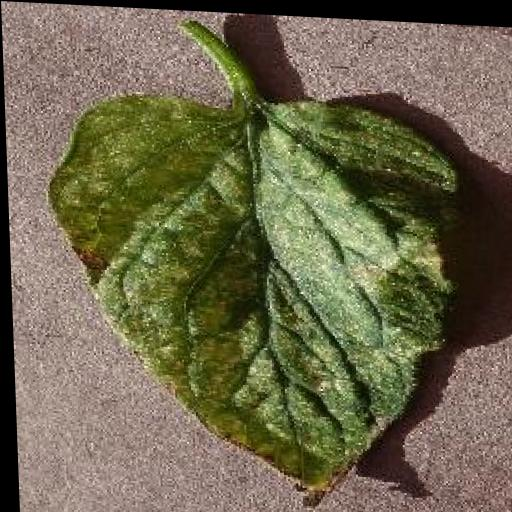Spider Mites: (41, 83, 465, 512)
